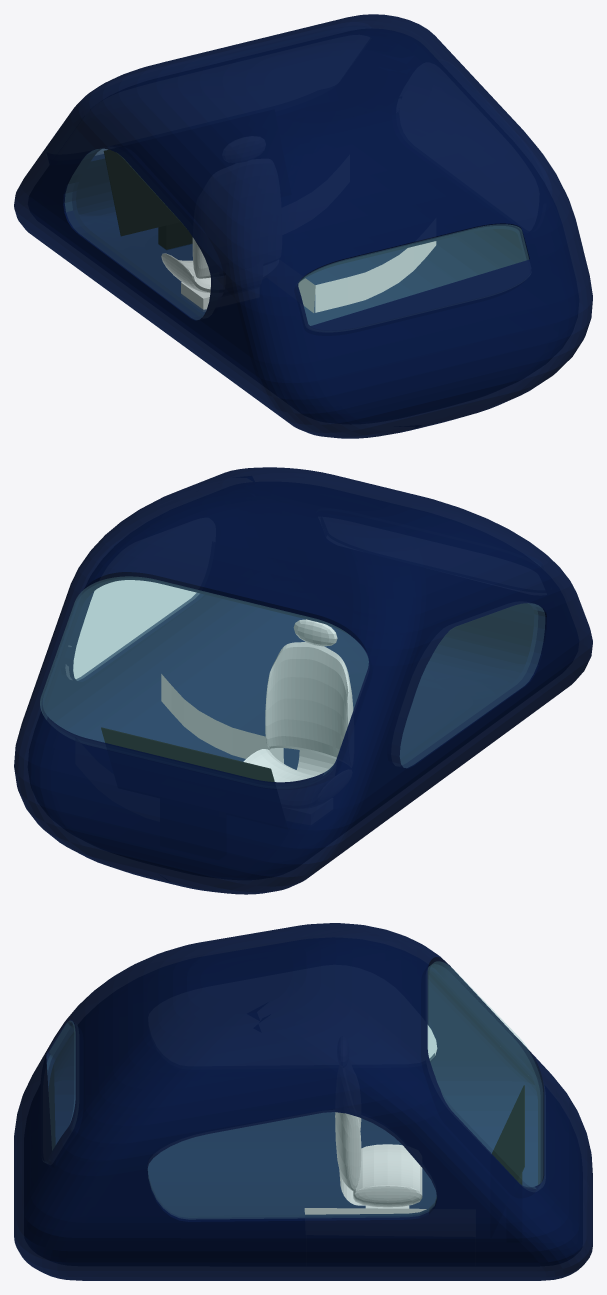
Rendered from капсула12.fbx.
3 views of the same model, one above another, from view 1: azimuth 30°, elevation 25°; view 2: azimuth 150°, elevation 25°; view 3: azimuth 270°, elevation 25° (orthographic). The views are drawn at different scales.
Parts seen in each view (by area): view 1: Circle, Cube.004, Cube.007, Cube.003, Circle.003, Circle.001, Cube.002; view 2: Circle, Cube.006, Cube.004, Circle.002, Cube.005, Circle.003, Cube.003, Circle.001, Cube.001, Plane; view 3: Circle, Cube.005, Cube.006, Circle.001, Cube.007, Circle.002, Cube.003, Circle.004.
Boxes of the visible parts, left/top/right/bottom form: Circle: left=14, top=14, right=592, bottom=438; Cube.004: left=65, top=149, right=210, bottom=319; Cube.007: left=298, top=224, right=528, bottom=325; Cube.003: left=103, top=149, right=180, bottom=236; Circle.003: left=315, top=241, right=436, bottom=312; Circle.001: left=161, top=253, right=210, bottom=292; Cube.002: left=158, top=222, right=192, bottom=249; Circle: left=14, top=467, right=592, bottom=894; Cube.006: left=40, top=576, right=368, bottom=781; Cube.004: left=400, top=603, right=544, bottom=767; Circle.002: left=265, top=642, right=353, bottom=759; Cube.005: left=73, top=580, right=195, bottom=678; Circle.003: left=161, top=674, right=270, bottom=758; Cube.003: left=101, top=727, right=274, bottom=781; Circle.001: left=243, top=749, right=315, bottom=782; Cube.001: left=293, top=619, right=337, bottom=646; Plane: left=297, top=750, right=336, bottom=775; Circle: left=14, top=923, right=592, bottom=1280; Cube.005: left=148, top=1112, right=436, bottom=1218; Cube.006: left=428, top=961, right=542, bottom=1188; Circle.001: left=353, top=1144, right=422, bottom=1207; Cube.007: left=47, top=1021, right=75, bottom=1150; Circle.002: left=335, top=1112, right=361, bottom=1190; Cube.003: left=492, top=1085, right=524, bottom=1181; Circle.004: left=304, top=1208, right=426, bottom=1214.
Size of the model in its own units: 400 by 315 by 601.
